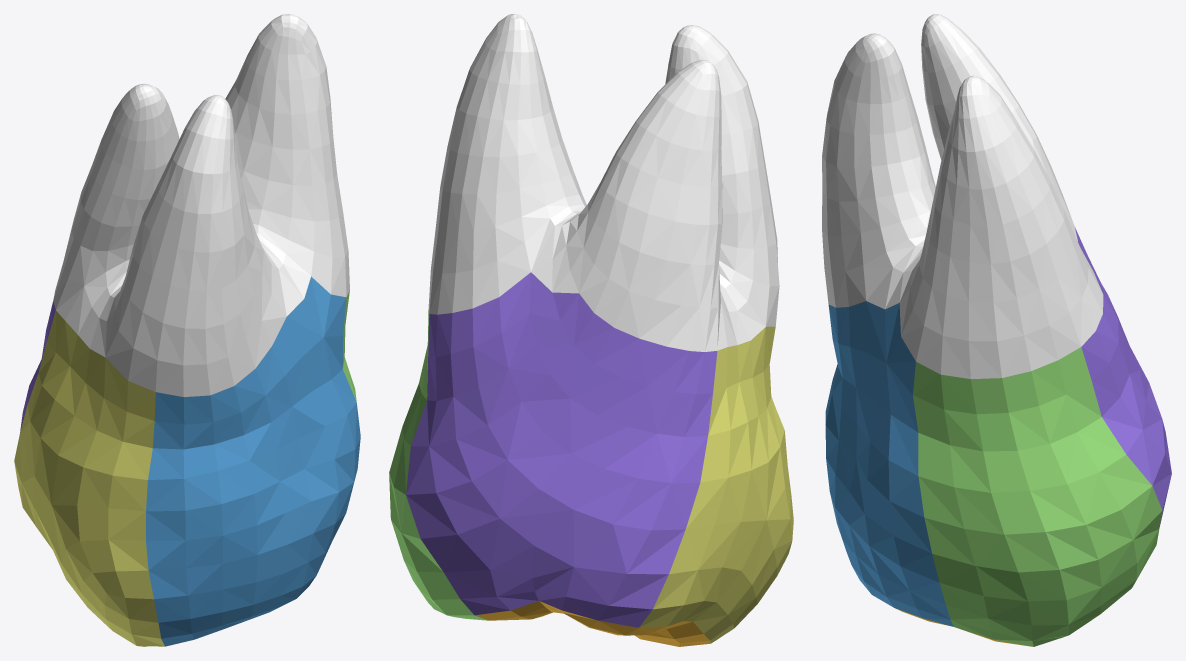
File: tooth_18_annotated.glb
3 renders of one model, left to right at view 1: azimuth 30°, elevation 25°; view 2: azimuth 150°, elevation 25°; view 3: azimuth 270°, elevation 25°, orthographic. The views are drawn at different scales.
Visible parts, largest first — view 1: FDI_18; view 2: FDI_18; view 3: FDI_18.
Boxes of the visible parts, left/top/right/bottom form: FDI_18: left=14, top=14, right=360, bottom=646; FDI_18: left=389, top=14, right=793, bottom=646; FDI_18: left=822, top=14, right=1171, bottom=646.
Bounding box in the file's own units: 0.00813 × 0.0142 × 0.00776.
